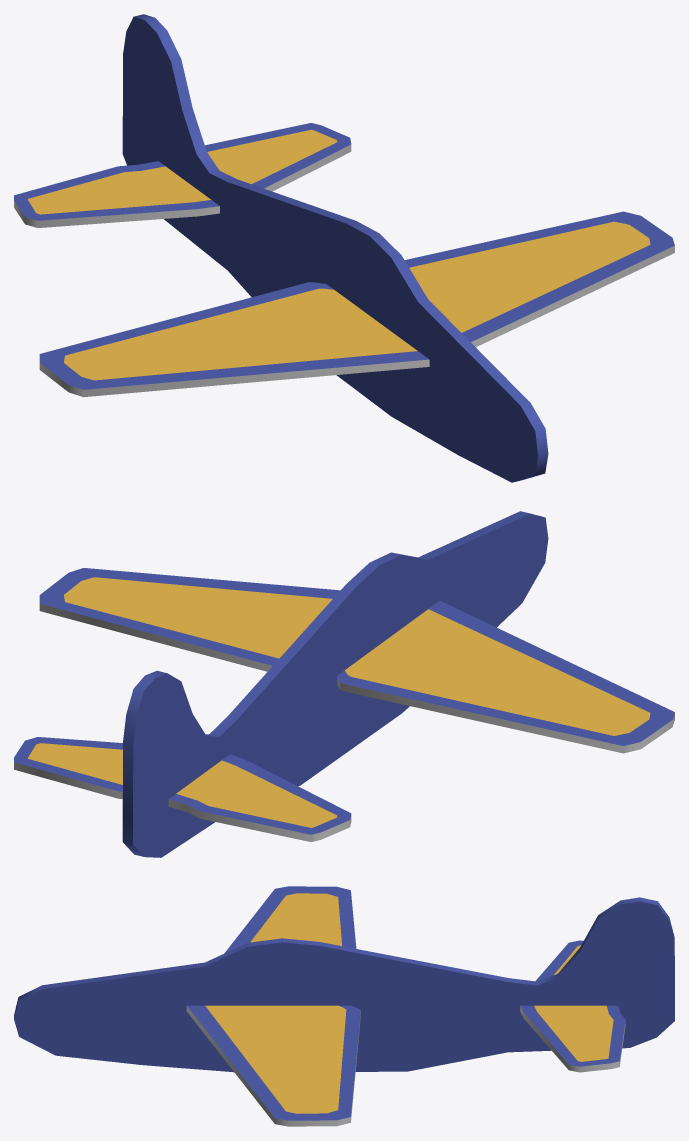
Rendered from PaperAirplane_01.fbx.
3 views of the same model, one above another, from view 1: azimuth 30°, elevation 25°; view 2: azimuth 150°, elevation 25°; view 3: azimuth 270°, elevation 25° (orthographic). The views are drawn at different scales.
Parts seen in each view (by area): view 1: PaperAirplane_01; view 2: PaperAirplane_01; view 3: PaperAirplane_01.
Boxes of the visible parts, box(x1,y1,x2,y2) form: PaperAirplane_01: box(14, 14, 674, 482); PaperAirplane_01: box(14, 511, 674, 857); PaperAirplane_01: box(14, 886, 674, 1126).
Bounding box in the file's own units: 0.3864 × 0.132 × 0.4603.
